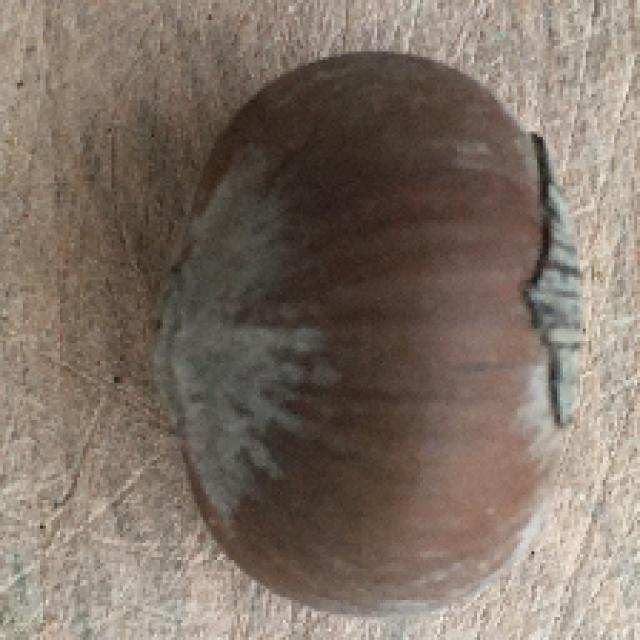damagedHazelnut: (151, 45, 588, 640)
